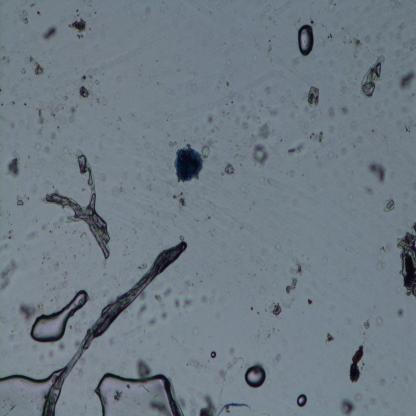Air bubble: (96, 370, 172, 416), (30, 290, 89, 342), (0, 368, 53, 415), (298, 24, 316, 57), (245, 364, 265, 389), (297, 393, 307, 408), (209, 349, 216, 361)
Background material: (268, 254, 303, 320), (198, 393, 250, 416), (339, 26, 364, 61), (50, 99, 80, 127), (80, 66, 102, 104), (347, 344, 367, 383), (213, 357, 239, 385), (0, 259, 19, 293), (232, 101, 254, 130), (366, 160, 388, 184), (5, 149, 22, 180), (250, 142, 270, 168), (67, 16, 88, 40), (0, 219, 16, 249), (168, 190, 188, 213), (146, 309, 170, 328), (25, 54, 44, 77), (378, 240, 391, 271), (399, 70, 416, 93), (304, 86, 320, 110), (135, 358, 152, 379), (19, 302, 37, 320), (256, 121, 272, 141), (379, 199, 398, 215), (308, 130, 326, 146), (41, 25, 57, 43), (147, 399, 168, 412), (173, 296, 192, 310), (153, 287, 172, 301), (339, 399, 356, 414), (198, 144, 213, 160), (221, 162, 235, 177), (36, 108, 47, 126), (288, 143, 306, 154), (137, 303, 148, 321), (13, 195, 30, 206), (77, 85, 89, 100), (267, 103, 277, 120), (19, 9, 29, 25), (206, 108, 216, 124), (323, 331, 335, 343), (136, 262, 148, 272), (340, 104, 350, 116), (327, 106, 336, 119), (375, 314, 384, 326), (198, 294, 208, 304), (353, 392, 362, 403), (305, 297, 314, 308), (326, 29, 333, 42), (363, 320, 371, 330), (398, 307, 405, 317), (20, 65, 26, 75)
Cellulose filter fibre: (42, 241, 187, 414), (42, 144, 111, 261), (397, 224, 416, 298), (358, 52, 386, 99)
Fragment: (174, 144, 204, 181)
